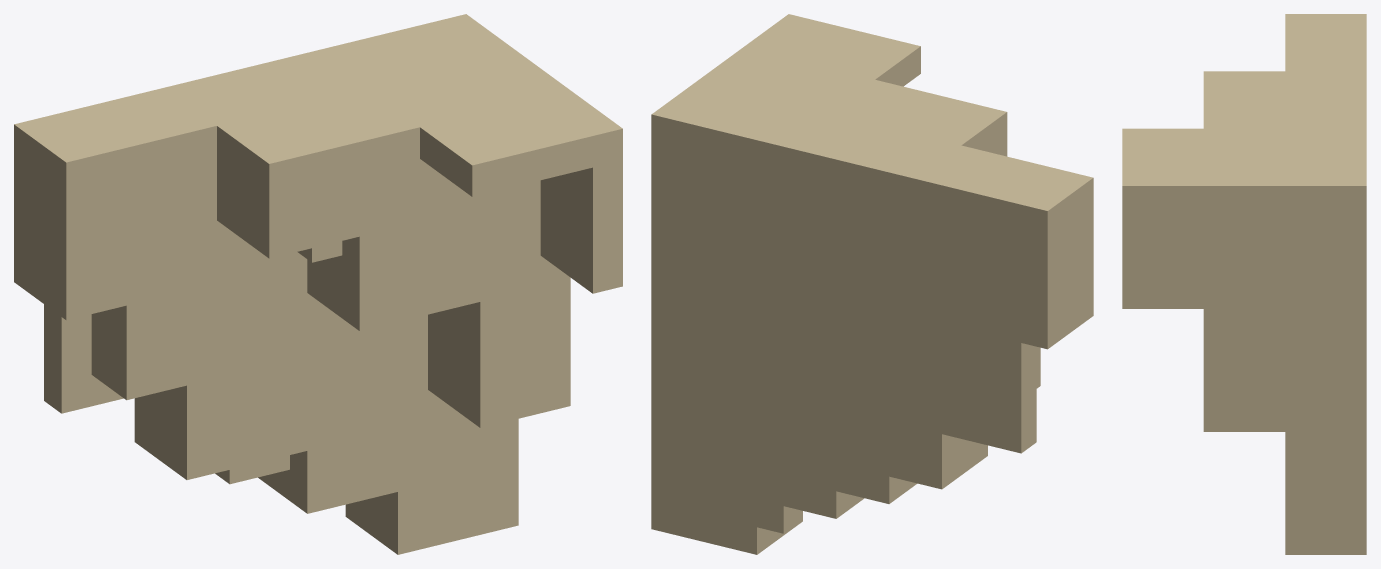
File: corner 1x1.obj
3 views of the same model, side by side, from view 1: azimuth 30°, elevation 25°; view 2: azimuth 150°, elevation 25°; view 3: azimuth 270°, elevation 25° (orthographic). The views are drawn at different scales.
Bounding box in the file's own units: 15 × 15 × 9.
Materials: 1 (1 with a texture image).
